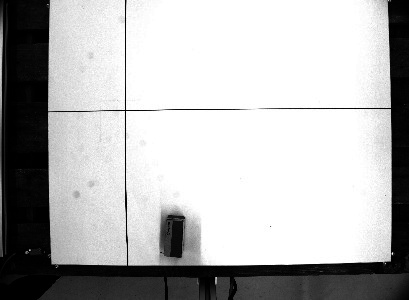b3: (161, 213, 186, 258)
